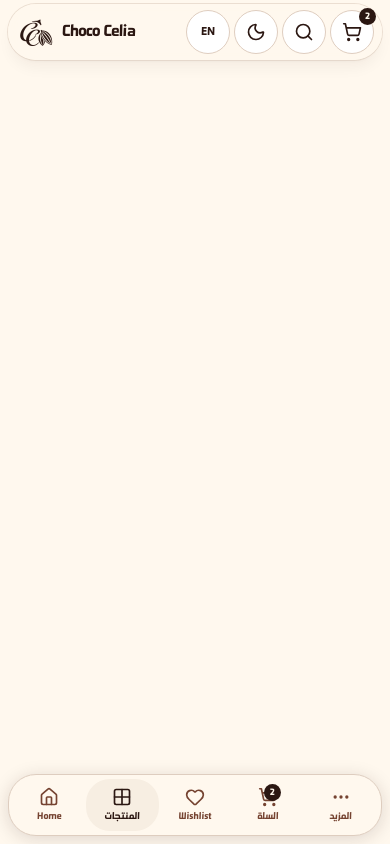
Scenario: mobile header switches from ar on the current route and closes More
This screenshot has width=390, height=844.
Check: the navigation bar named "Switch to English" is shown, box x1=8 y1=4 x2=382 y2=60
Check: the button with aria-label "Switch to English" reads "EN", box x1=186 y1=10 x2=230 y2=54
Click the button "المزيد" at (341, 805), box x1=304 y1=779 x2=377 y2=831
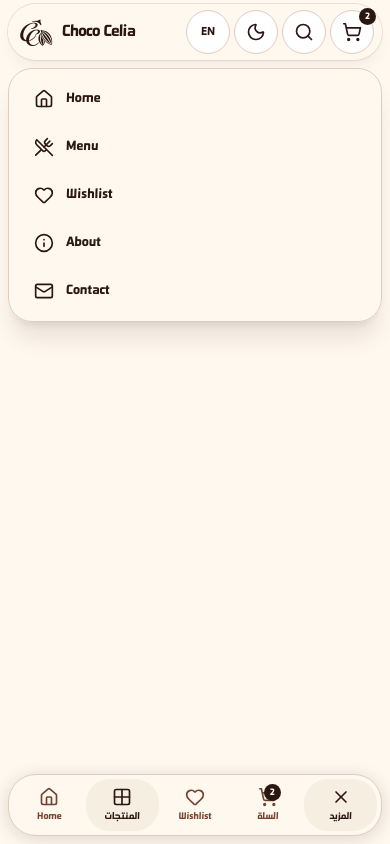
Check: the button "المزيد" is expanded, box x1=304 y1=779 x2=377 y2=831
Click the button with aria-label "Switch to English" at (208, 32), box x1=186 y1=10 x2=230 y2=54
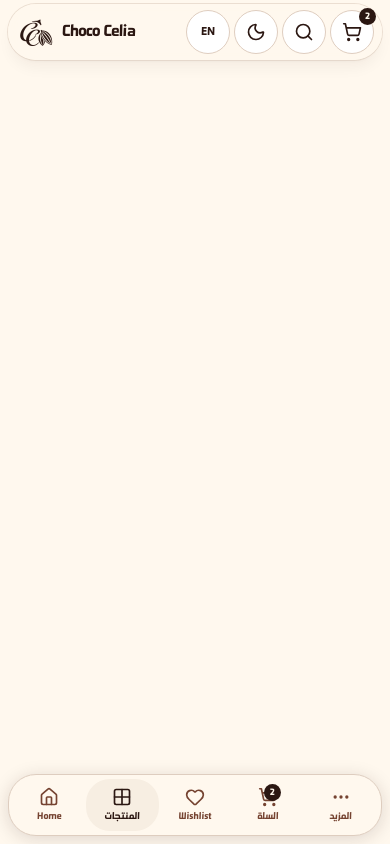
Check: the button "المزيد" is collapsed, box x1=304 y1=779 x2=377 y2=831
